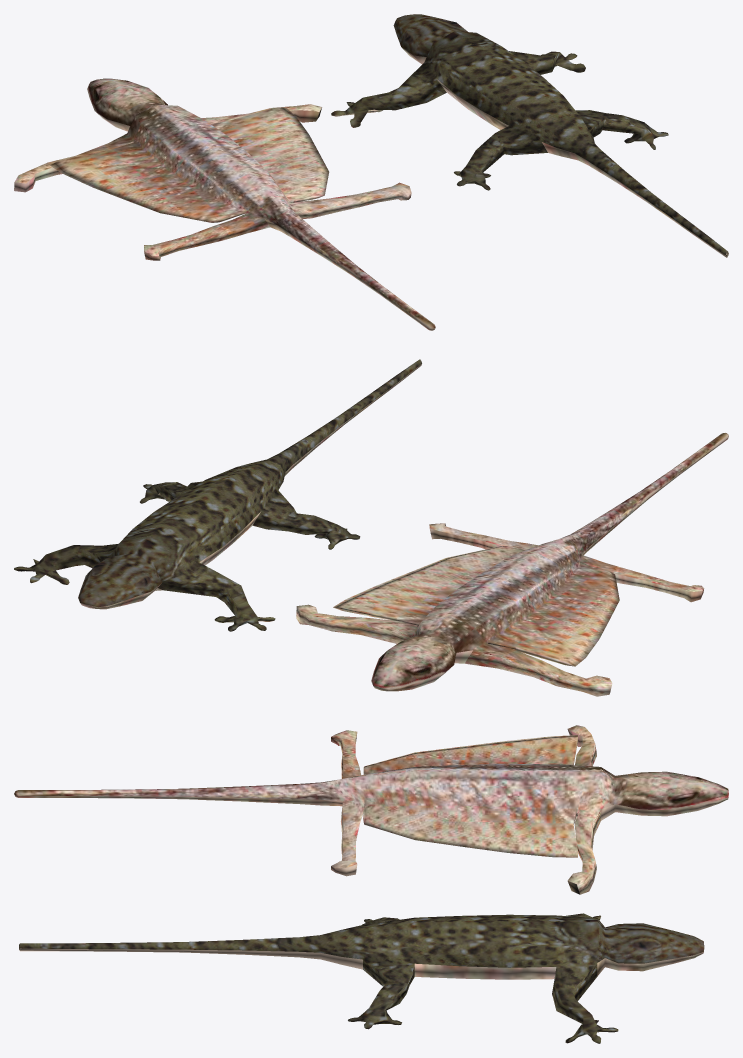
The model's file is hajie.FBX.
3 views of the same model, one above another, from view 1: azimuth 30°, elevation 25°; view 2: azimuth 150°, elevation 25°; view 3: azimuth 270°, elevation 25° (orthographic). The views are drawn at different scales.
Visible parts, largest first — view 1: Cylinder001, Cylinder002; view 2: Cylinder001, Cylinder002; view 3: Cylinder001, Cylinder002.
Boxes of the visible parts, left/top/right/bottom form: Cylinder001: left=14, top=78, right=435, bottom=330; Cylinder002: left=331, top=14, right=728, bottom=257; Cylinder001: left=296, top=433, right=728, bottom=696; Cylinder002: left=14, top=359, right=421, bottom=631; Cylinder001: left=14, top=725, right=728, bottom=894; Cylinder002: left=19, top=913, right=704, bottom=1043.
Size of the model in its own units: 47.51 by 4.77 by 48.41.
Materials: 1 (1 with a texture image).
